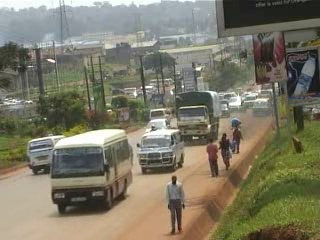Car: (141, 118, 174, 139), (227, 95, 246, 114), (243, 92, 258, 109), (218, 100, 230, 119)
